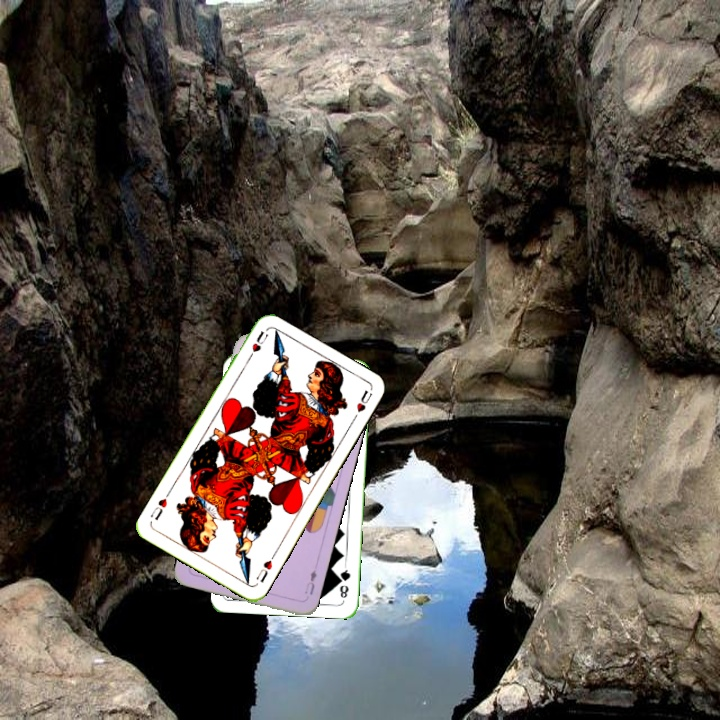EU: (301, 566, 319, 598)
G8: (335, 562, 353, 601)
HU: (244, 327, 271, 363), (252, 550, 278, 585)
